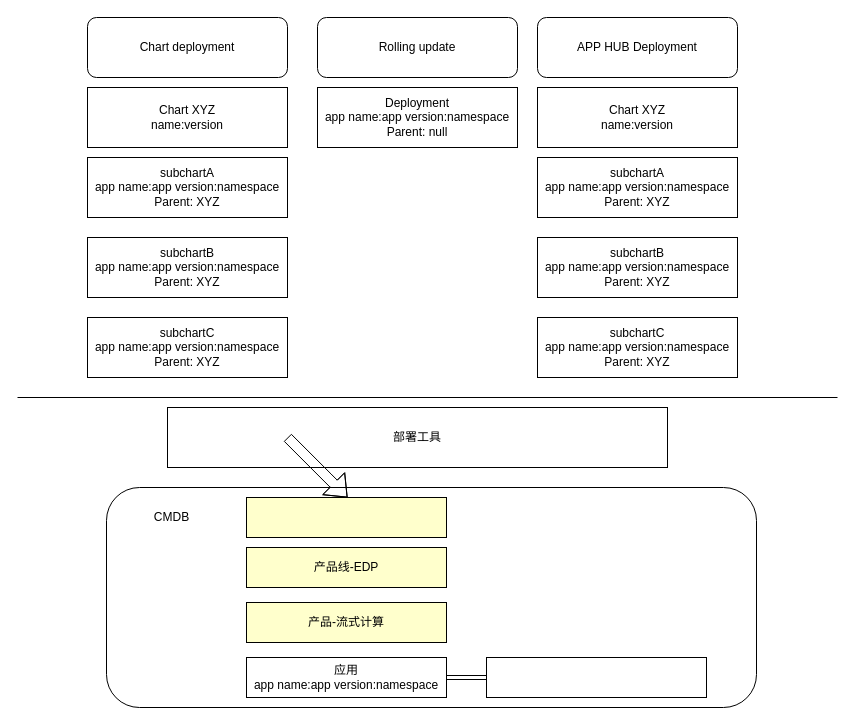
The diagram is 856 pixels wide and 725 high, and some of its shapes have lost their labels. The shapes that lost their labels are listed below. From the top down, each one's centre as x and y in pixels, then its label:
At point (346, 517): "业务域/租户-EnOS".
At point (596, 677): "Chart name:version".
